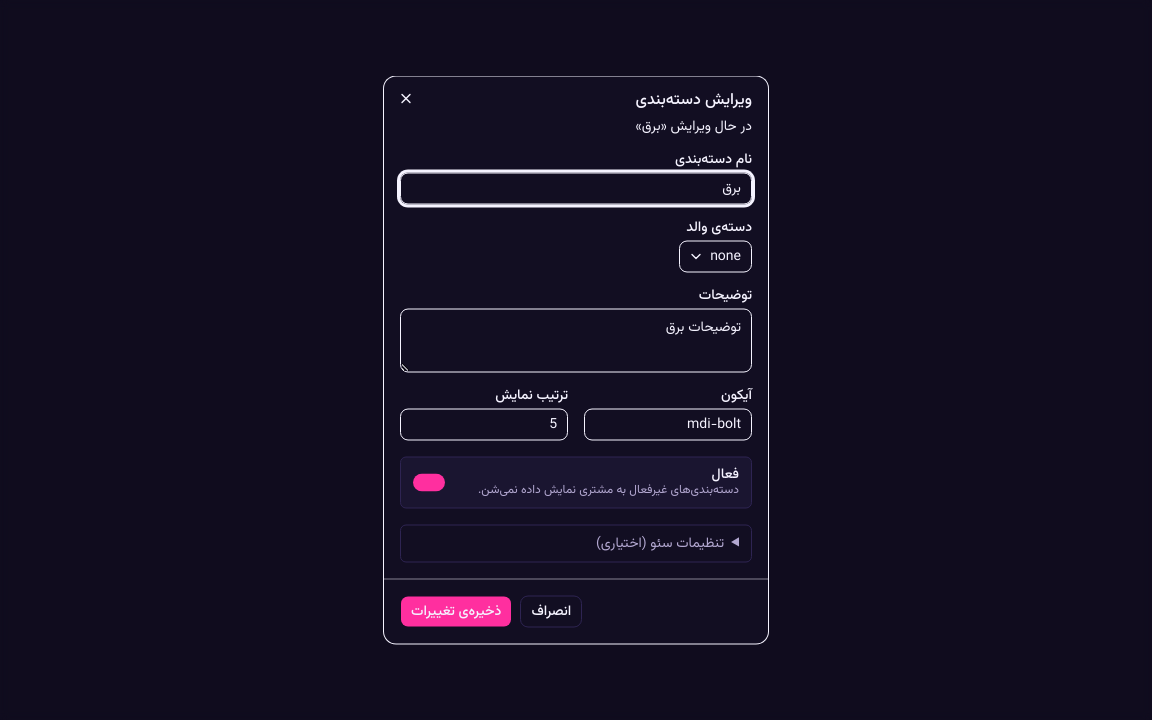
Test: CategoryFormDialog › edit mode › shows error banner on update failure
Click the button "ذخیره‌ی تغییرات" at (456,612), box [400, 596, 512, 628]
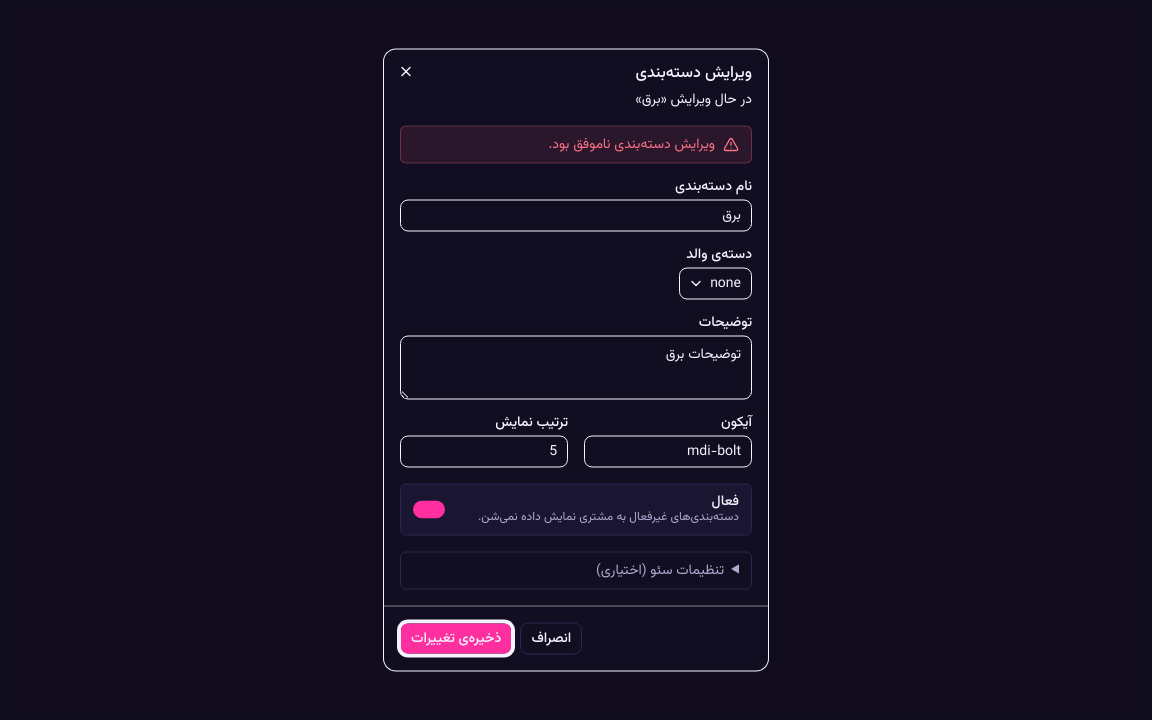
Now the text "ویرایش دسته‌بندی ناموفق بود." is shown, box [548, 134, 715, 154]
